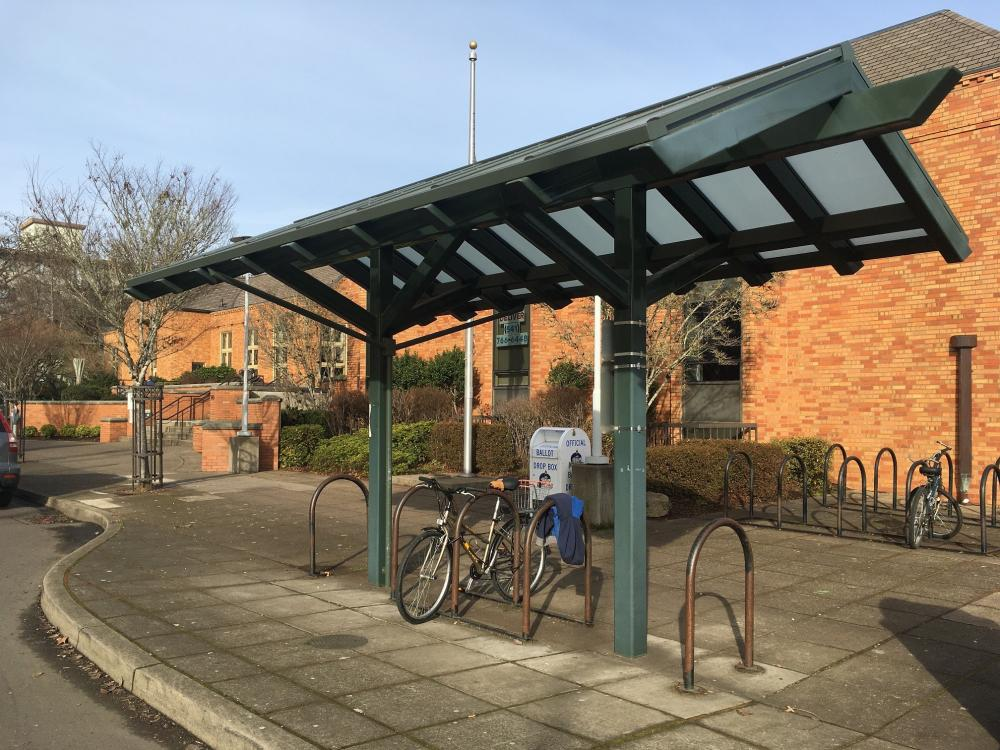bike: (392, 456, 602, 619)
